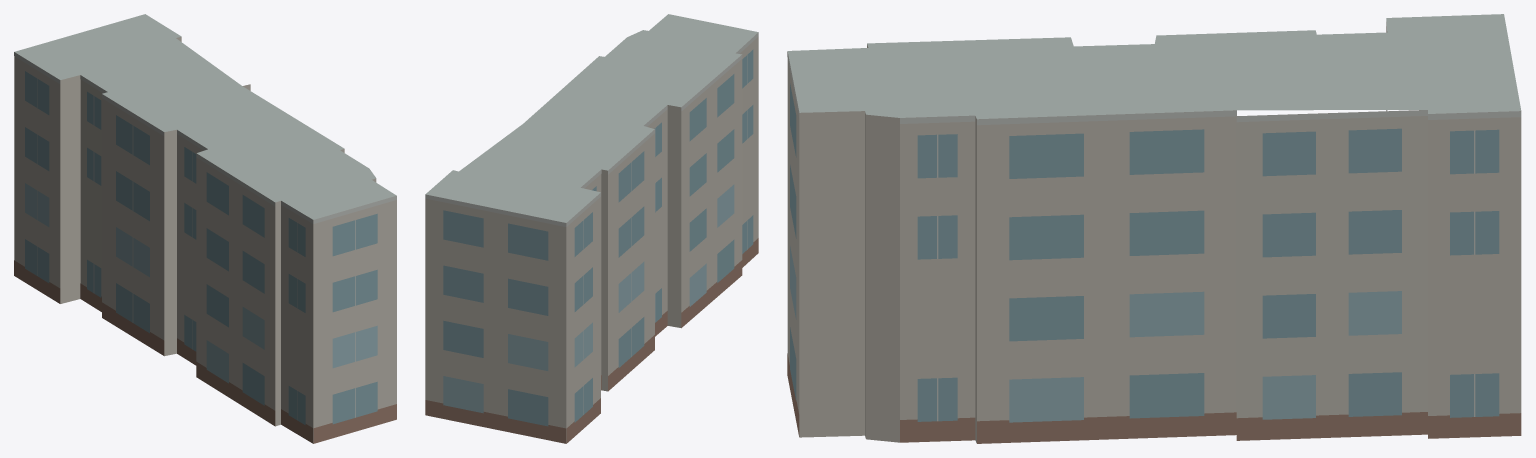
File: survey-upis-32474638.glb
3 renders of one model, left to right at view 1: azimuth 30°, elevation 25°; view 2: azimuth 150°, elevation 25°; view 3: azimuth 270°, elevation 25°, orthographic. The views are drawn at different scales.
Visible parts, largest first — view 1: survey-upis-32474638.tmp; view 2: survey-upis-32474638.tmp; view 3: survey-upis-32474638.tmp.
Boxes of the visible parts, left/top/right/bottom form: survey-upis-32474638.tmp: left=14, top=14, right=396, bottom=443; survey-upis-32474638.tmp: left=425, top=14, right=758, bottom=443; survey-upis-32474638.tmp: left=787, top=14, right=1521, bottom=443.
Bounding box in the file's own units: 9.04 × 13 × 26.64.
